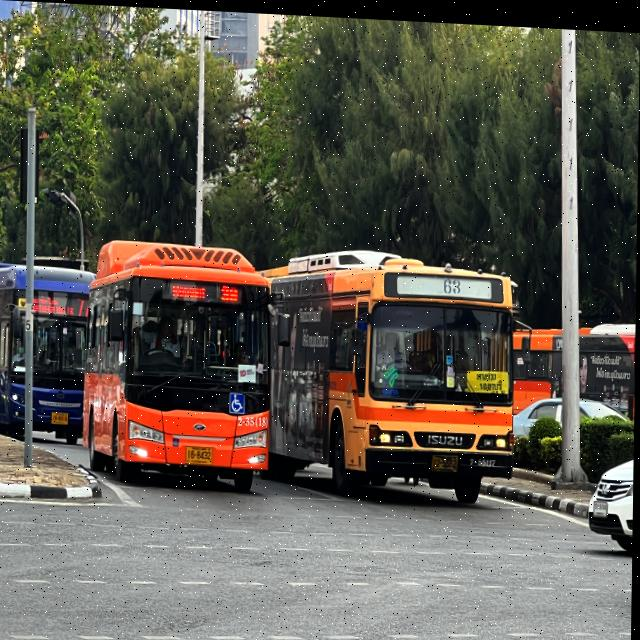BMTA-bus: (268, 248, 518, 501)
Bus Line Number: (440, 269, 465, 293), (219, 282, 242, 300), (76, 294, 90, 318)
Bus Side Number: (236, 411, 270, 425), (468, 451, 500, 464)
Destination Sign: (34, 292, 76, 317), (467, 365, 509, 388)
TSB-Bus: (84, 240, 271, 491), (0, 264, 91, 444)
